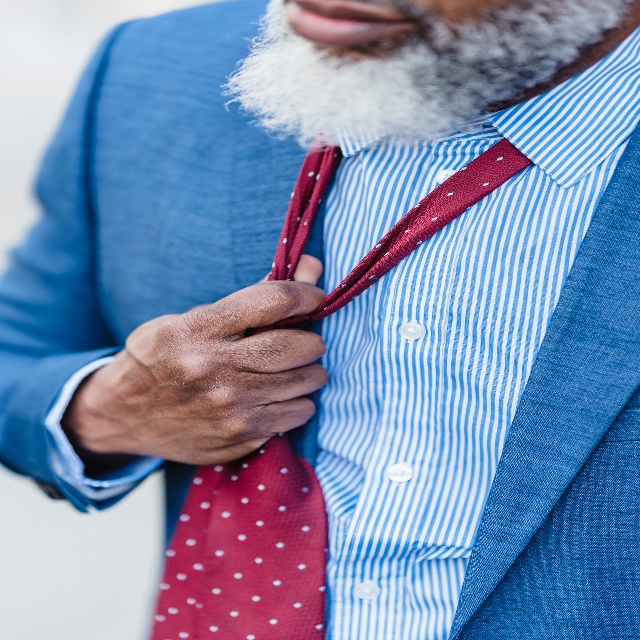Sin_guantes: (110, 246, 331, 467)
